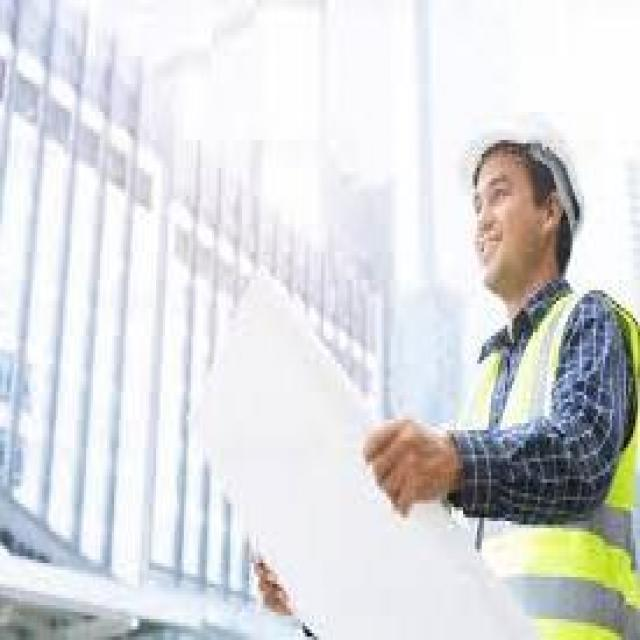Reflective-Jacket: (456, 276, 638, 640)
Safety-Helmet: (454, 84, 600, 224)
